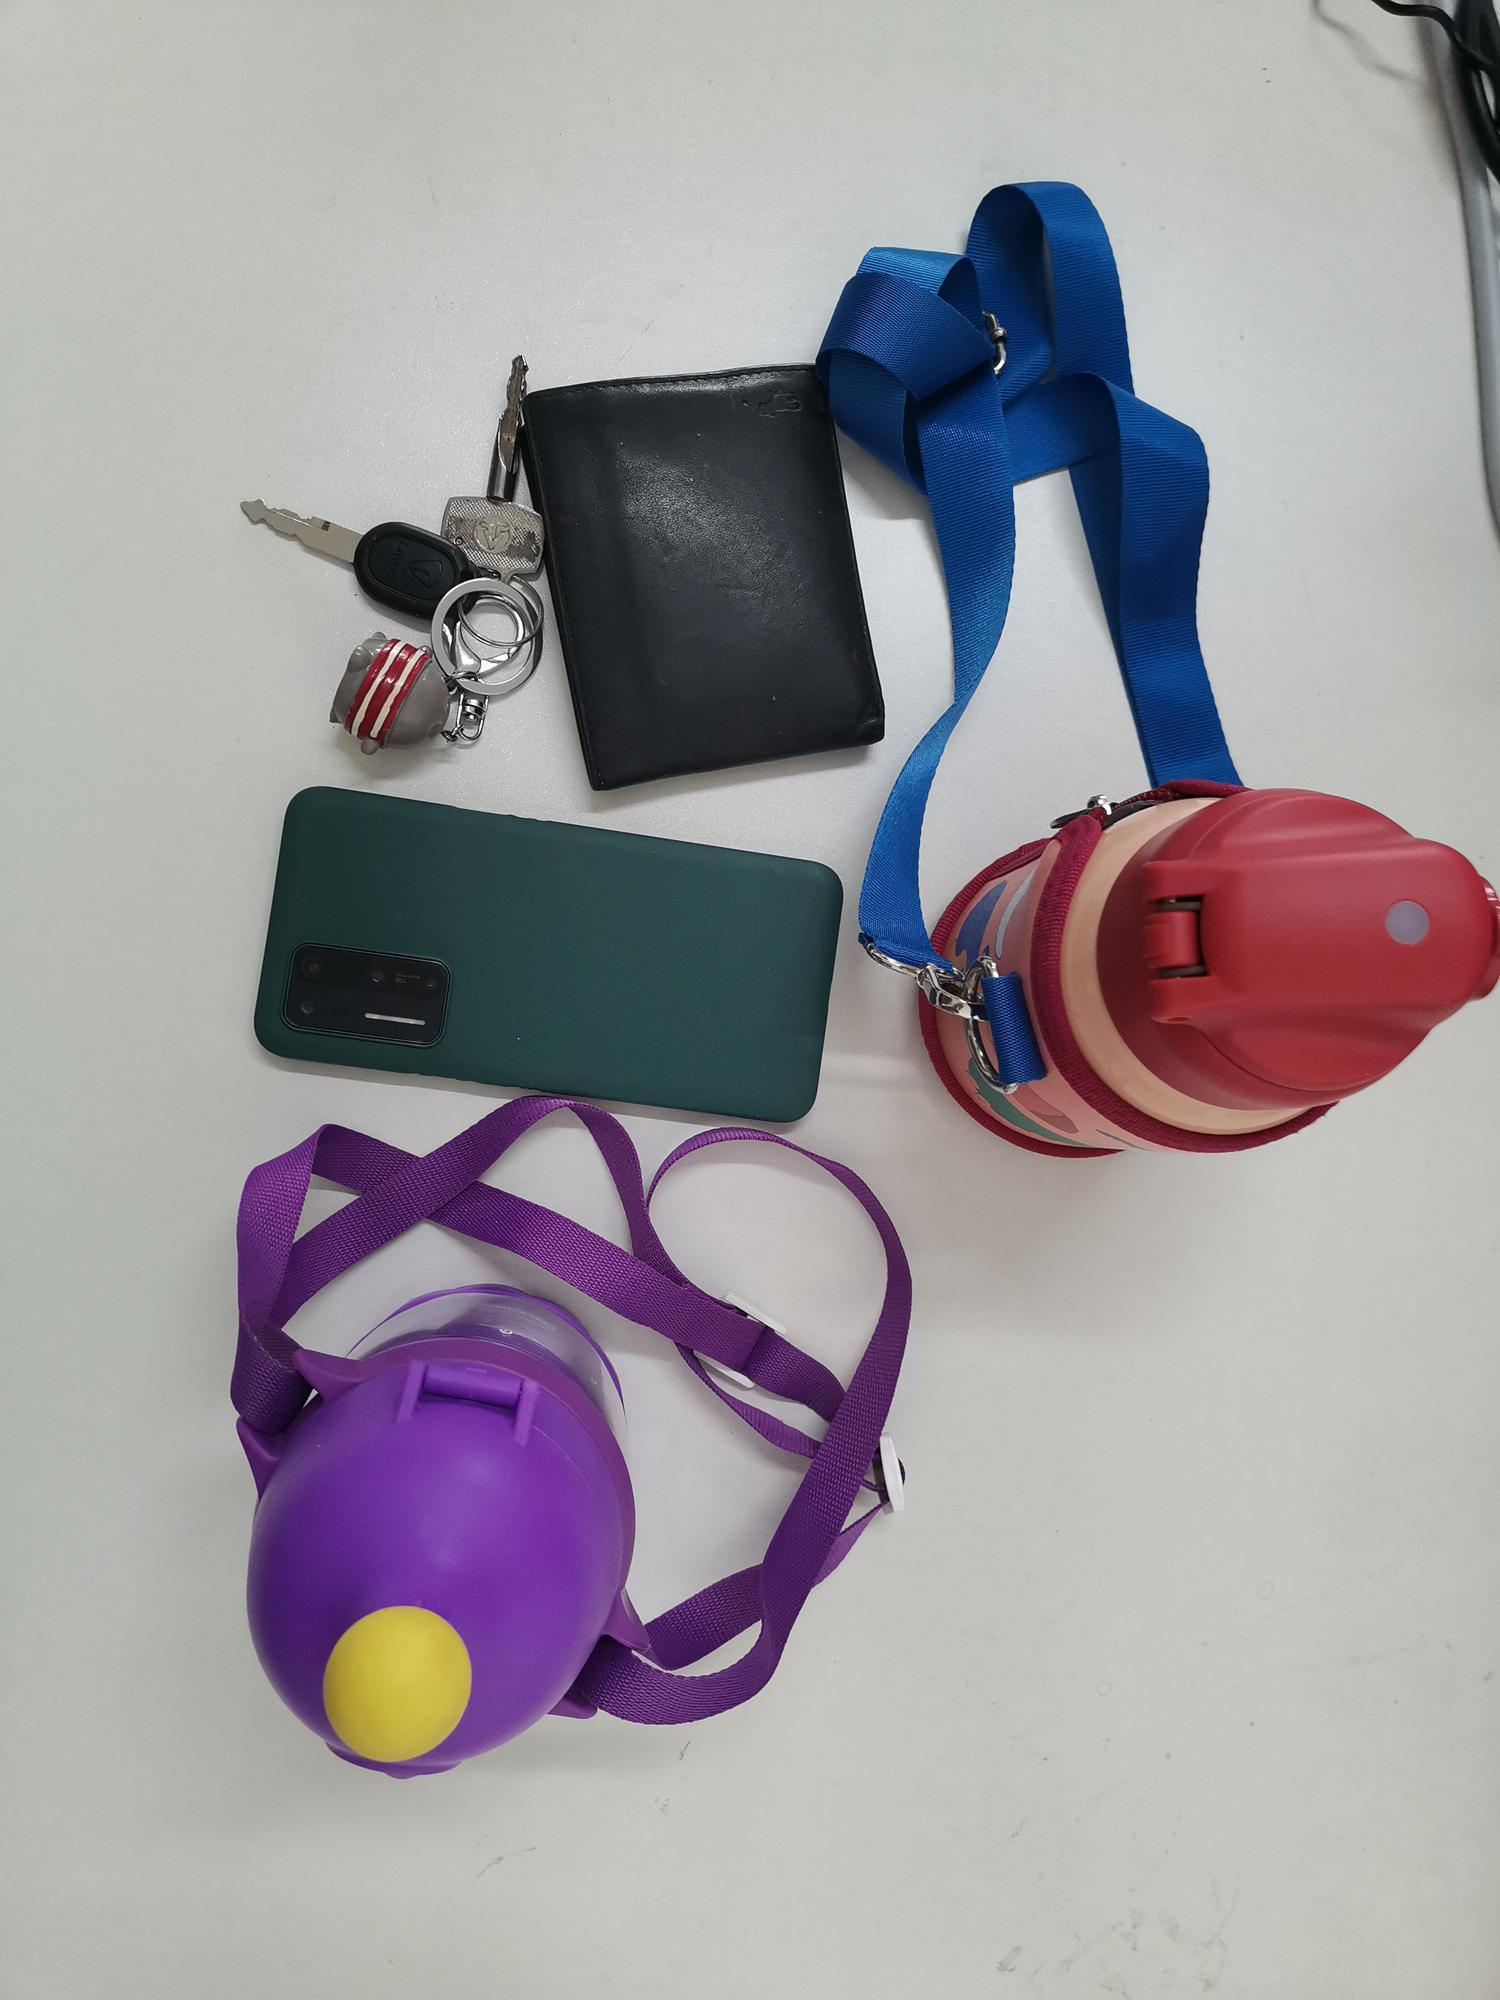cup: (233, 1246, 774, 1783), (912, 772, 1500, 1156)
key: (239, 357, 558, 748)
phone: (246, 797, 846, 1126)
wallet: (514, 357, 903, 795)
